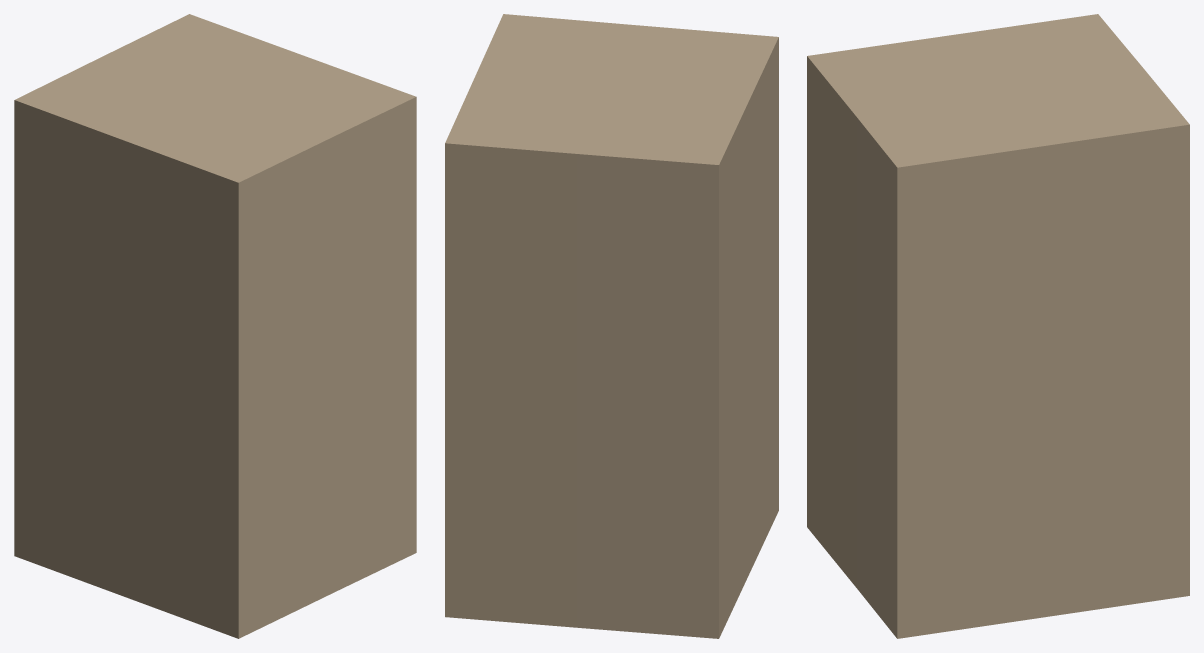
File: bld_100469823.dae
The picture shows the model from 3 angles, left to right: view 1: azimuth 30°, elevation 25°; view 2: azimuth 150°, elevation 25°; view 3: azimuth 270°, elevation 25°; orthographic projection. The views are drawn at different scales.
Parts seen in each view (by area): view 1: bld_100469823; view 2: bld_100469823; view 3: bld_100469823.
Boxes of the visible parts, x1,y1,x2,y2 form: bld_100469823: (14,14,416,638); bld_100469823: (445,14,778,638); bld_100469823: (807,14,1189,638).
Bounding box in the file's own units: 5.6 × 5.89 × 8.
